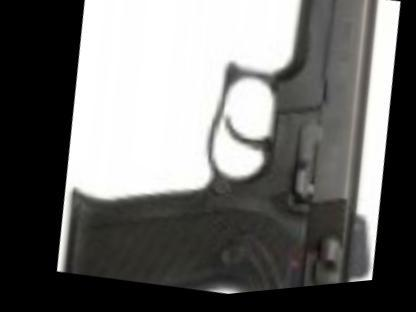pistol: (31, 0, 415, 309)
